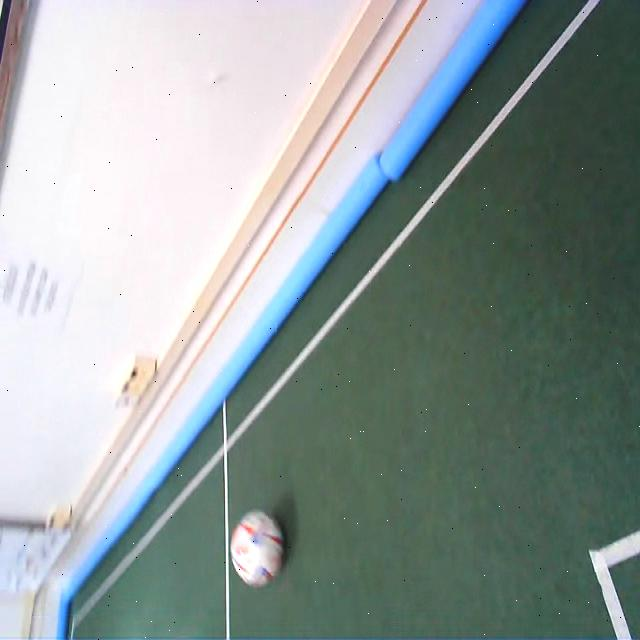ball: (231, 513, 283, 586)
